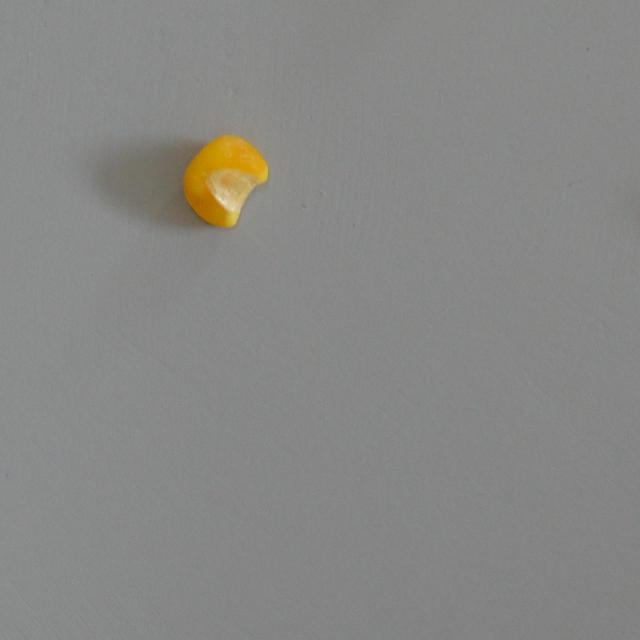no_desgerminado: (177, 126, 273, 229)
